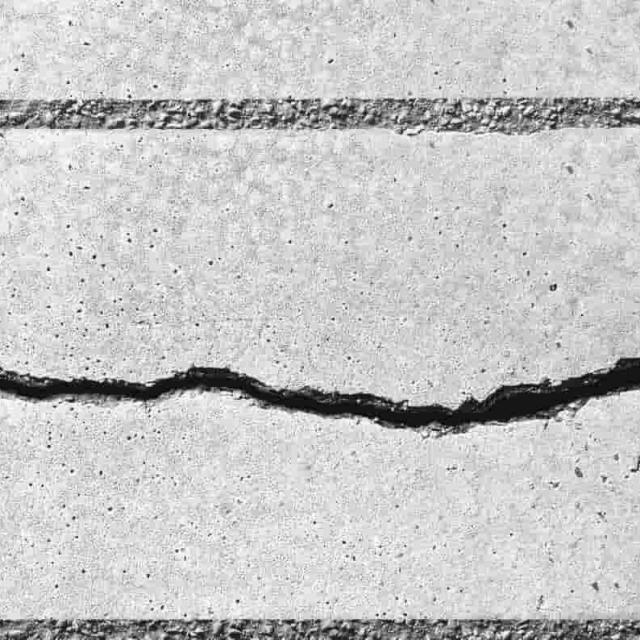Crack: (0, 346, 640, 452)
